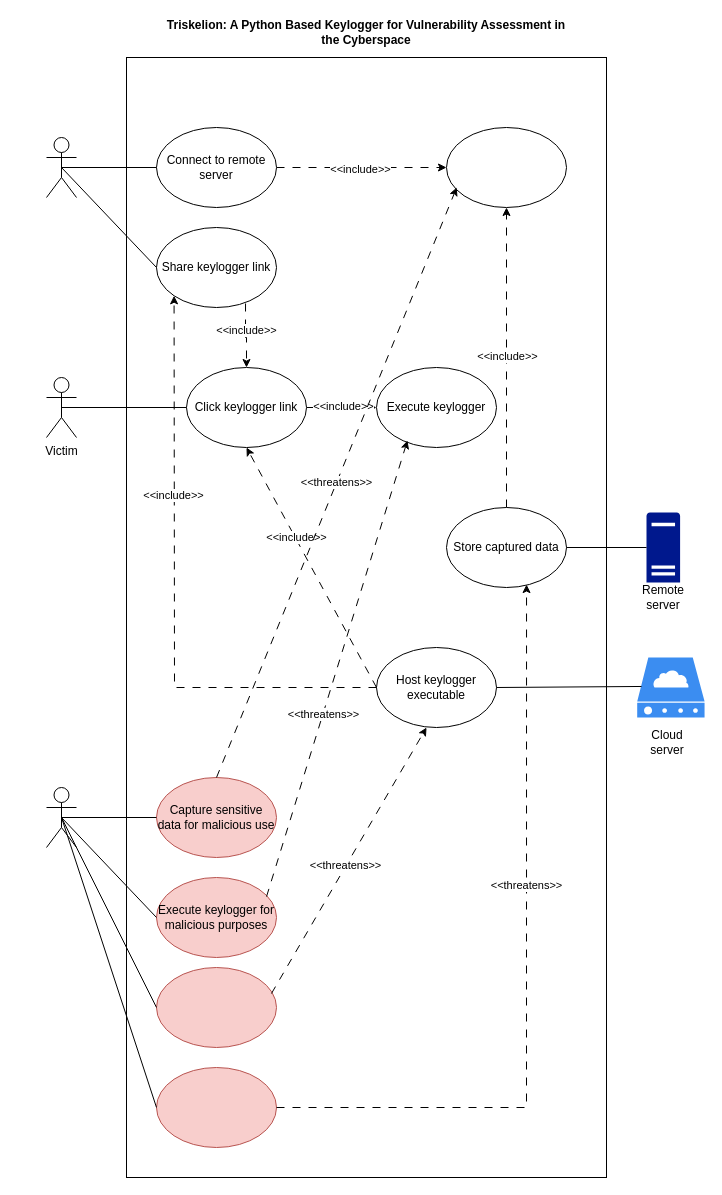
Some shapes in this 722 by 1195 pixel diagram are drawn without their labels. Here are the shapes that lost their labels. From the top down, the centre of each, then its label:
At (61,167): "Ethical hacker".
At (506,167): "Access captured data for analysis".
At (61,817): "Malicious hacker".
At (216,1007): "Spread keylogger link maliciously".
At (216,1107): "Unauthorized access to stored data".
